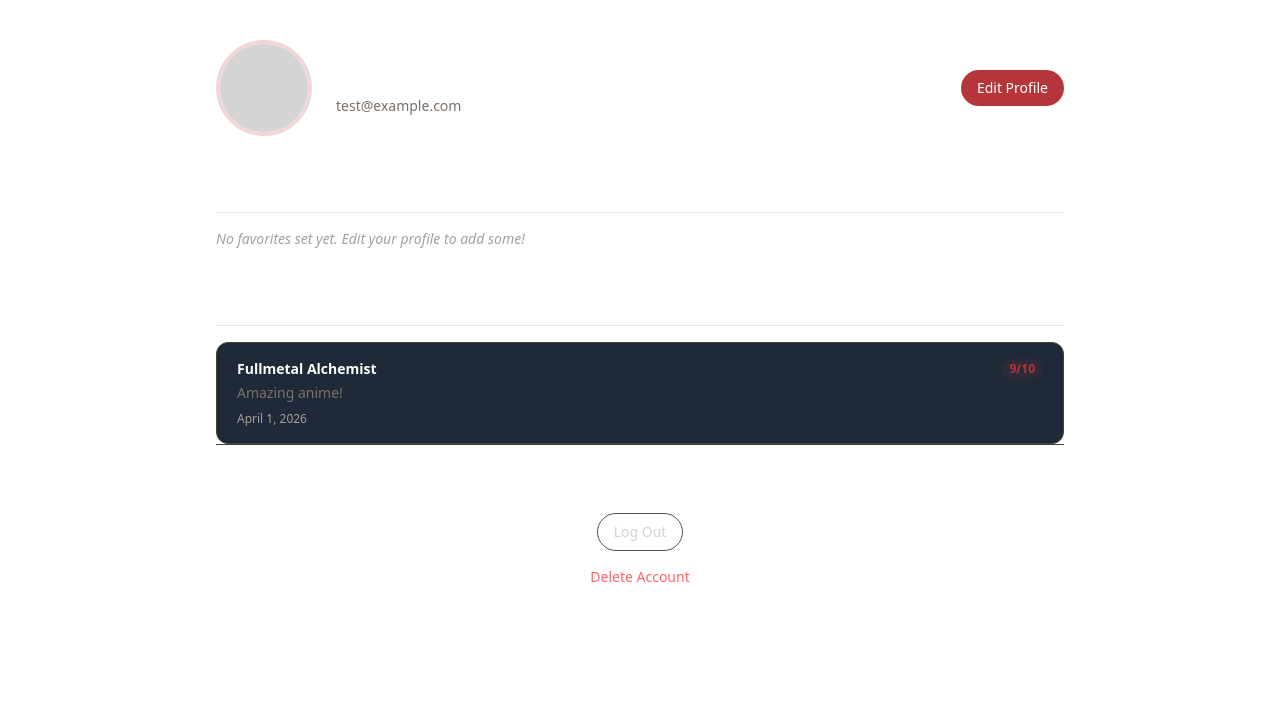
ProfilePage › Edit profile modal › pre-fills username field with current username
The width and height of the screenshot is (1280, 720).
What coordinates should you click on to do the following:
click the button "Edit Profile"
I would click on:
 (1012, 88)
Its box is [961,70,1064,106].
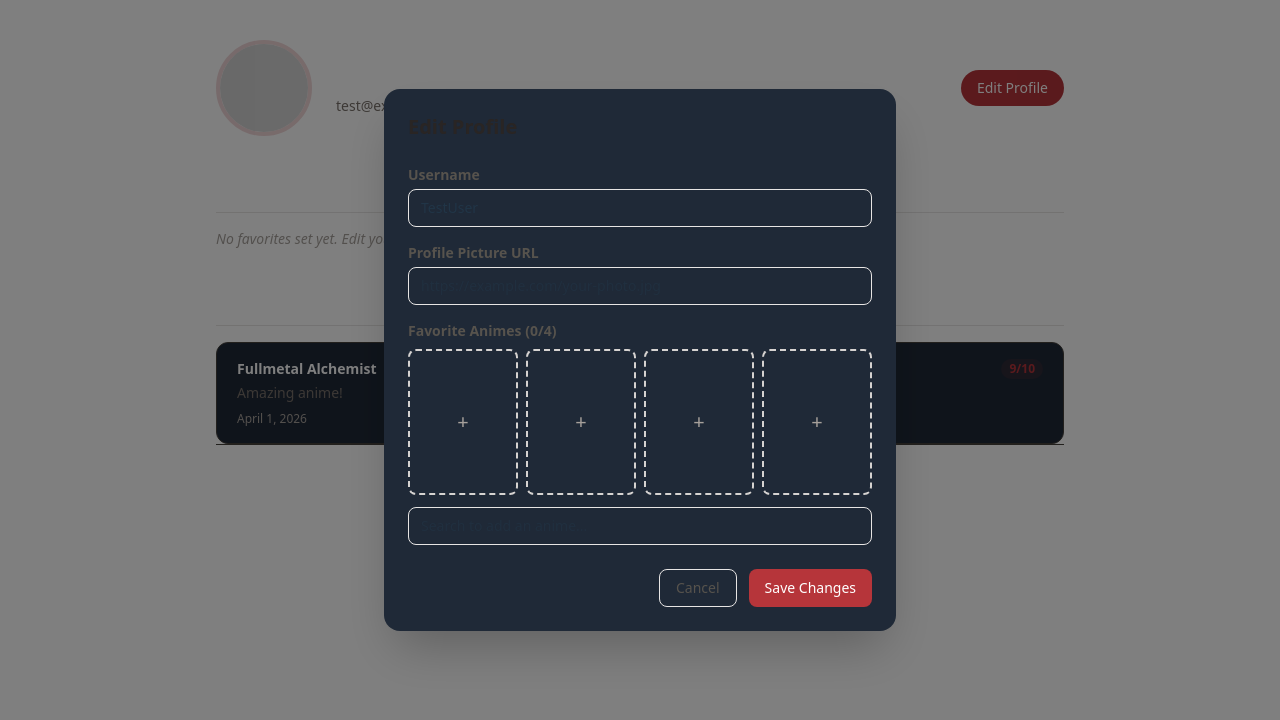
Check: the field with placeholder "Your username" holds "TestUser", box [408,189,872,227]
